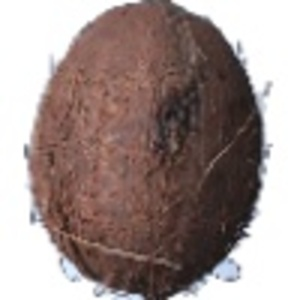coco: (25, 1, 270, 300)
